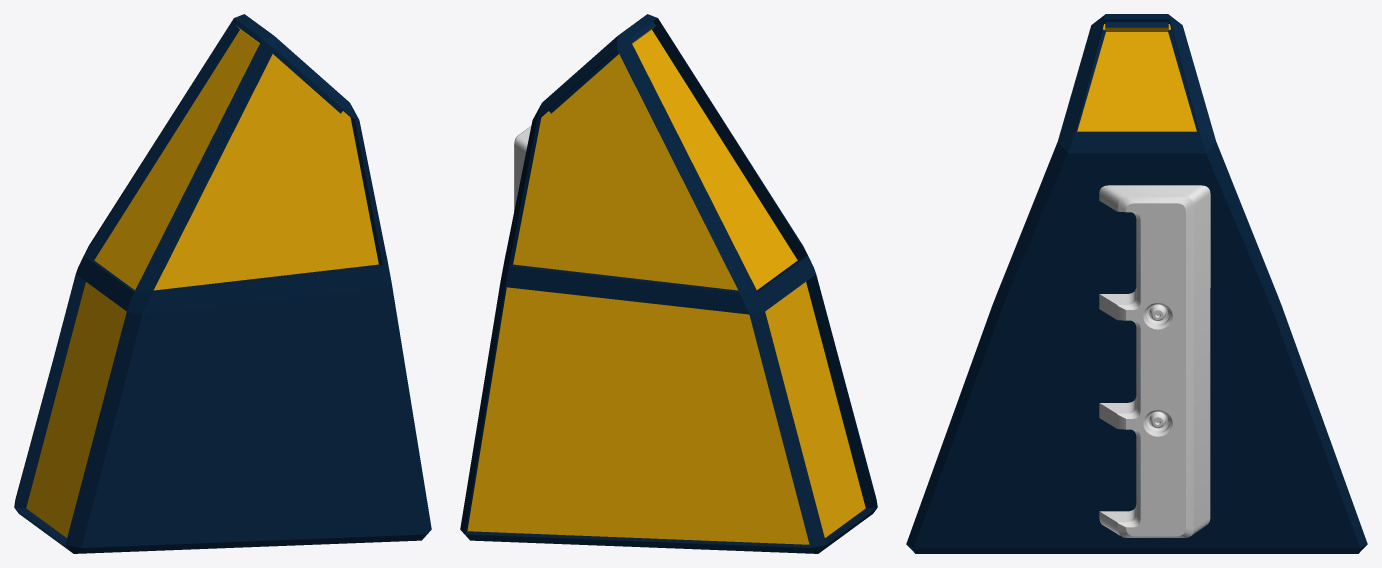
File: physics_d.fbx
3 views of the same model, side by side, from view 1: azimuth 30°, elevation 25°; view 2: azimuth 150°, elevation 25°; view 3: azimuth 270°, elevation 25° (orthographic). The views are drawn at different scales.
Visible parts, largest first — view 1: physics_cube_d; view 2: physics_cube_d; view 3: physics_cube_d.
Part boxes in pixels (x1,y1,x2,y2): physics_cube_d: [14, 14, 431, 553]; physics_cube_d: [460, 14, 877, 553]; physics_cube_d: [906, 14, 1367, 553].
Size of the model in its own units: 18.4 by 25.42 by 21.2.
